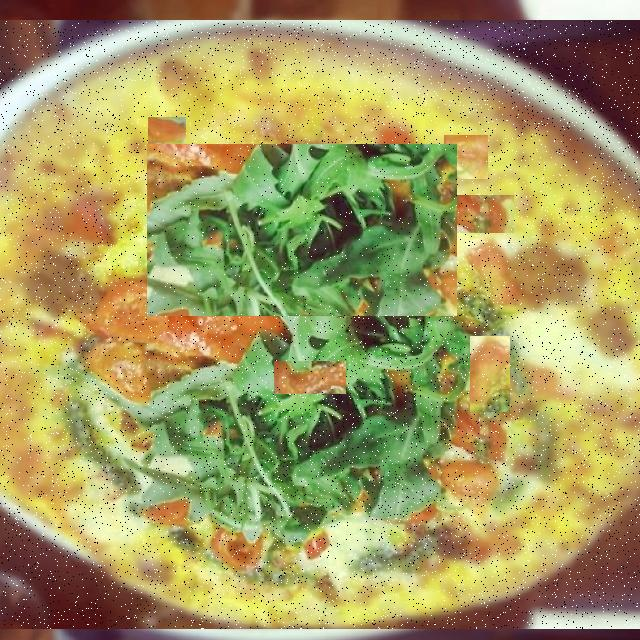Pizza: (0, 21, 640, 629)
Rucola: (147, 144, 457, 316)
Tomato: (93, 266, 166, 366), (186, 300, 260, 368), (228, 398, 287, 451), (470, 337, 510, 412), (274, 361, 346, 394), (455, 195, 514, 233), (212, 78, 266, 118), (362, 474, 410, 518), (444, 135, 488, 179), (148, 117, 186, 150)
